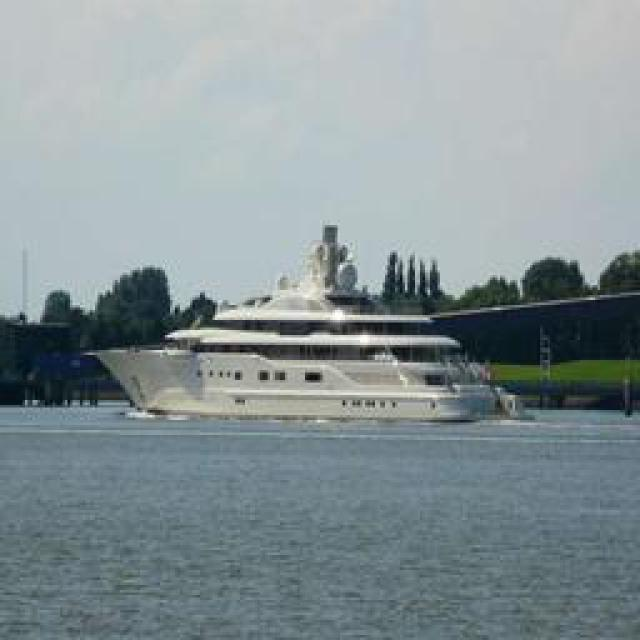Ship: (113, 234, 508, 424)
